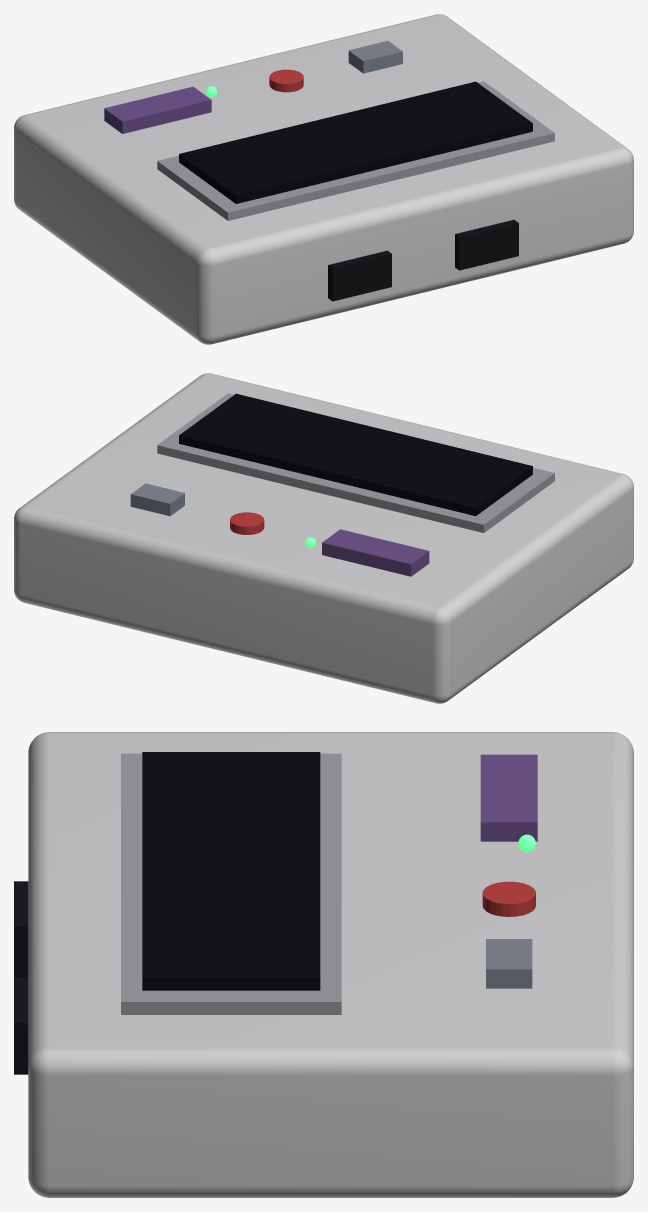
Rendered from snes.glb.
3 views of the same model, one above another, from view 1: azimuth 30°, elevation 25°; view 2: azimuth 150°, elevation 25°; view 3: azimuth 270°, elevation 25° (orthographic). The views are drawn at different scales.
Visible parts, largest first — view 1: Body, Slot, SlotLip, Power, PortLeft, PortRight, Eject, Reset; view 2: Body, Slot, SlotLip, Power, Eject, Reset; view 3: Body, Slot, SlotLip, Power, Eject, Reset, PortRight, PortLeft.
Boxes of the visible parts, left/top/right/bottom form: Body: left=14, top=14, right=633, bottom=344; Slot: left=179, top=81, right=532, bottom=203; SlotLip: left=157, top=81, right=554, bottom=220; Power: left=104, top=86, right=211, bottom=133; PortLeft: left=328, top=250, right=391, bottom=301; PortRight: left=455, top=219, right=518, bottom=270; Eject: left=348, top=41, right=402, bottom=73; Reset: left=269, top=69, right=303, bottom=92; Body: left=14, top=373, right=633, bottom=703; Slot: left=179, top=393, right=532, bottom=515; SlotLip: left=157, top=393, right=554, bottom=532; Power: left=322, top=529, right=429, bottom=576; Eject: left=130, top=483, right=184, bottom=516; Reset: left=230, top=512, right=264, bottom=534; Body: left=28, top=732, right=633, bottom=1197; Slot: left=142, top=752, right=320, bottom=990; SlotLip: left=121, top=753, right=341, bottom=1014; Power: left=480, top=754, right=537, bottom=841; Eject: left=486, top=939, right=532, bottom=988; Reset: left=482, top=881, right=535, bottom=916; PortRight: left=14, top=977, right=28, bottom=1074; PortLeft: left=14, top=881, right=28, bottom=977.
Size of the model in its own units: 2.2 by 0.54 by 1.74.
